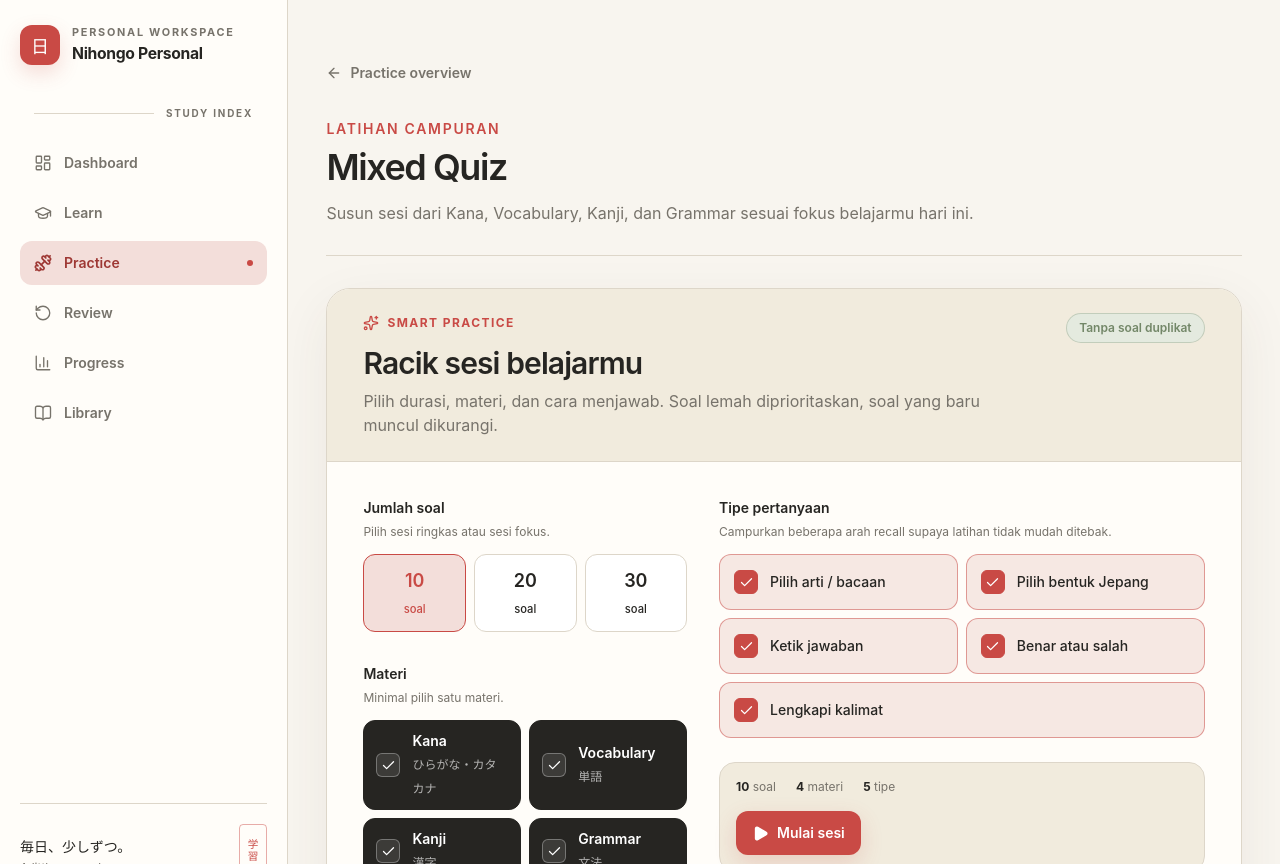
it: Mixed quiz route › shows exact recovery when mixed generation is unavailable
Step 1. Click the button "Mulai sesi" → (798, 833), box [736,811,861,855]
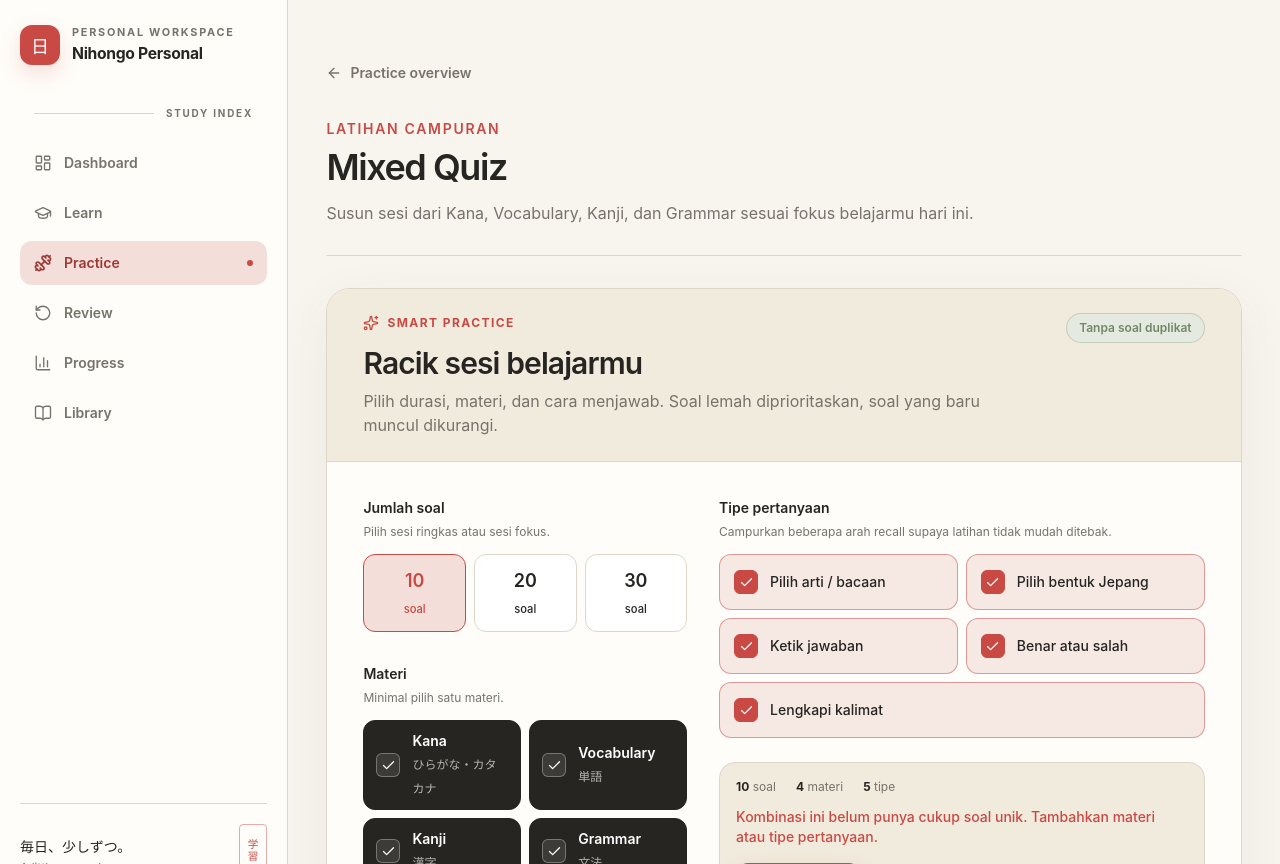
Expected: the heading "Racik sesi belajarmu" is shown, [363,345,642,381]
Expected: the message shows "Kombinasi ini belum punya cukup soal unik", [736,808,1155,845]
